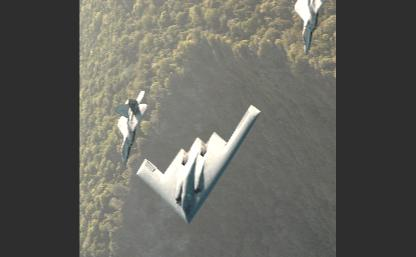B1: (136, 102, 262, 222)
F18: (114, 90, 146, 166), (293, 0, 334, 56)
